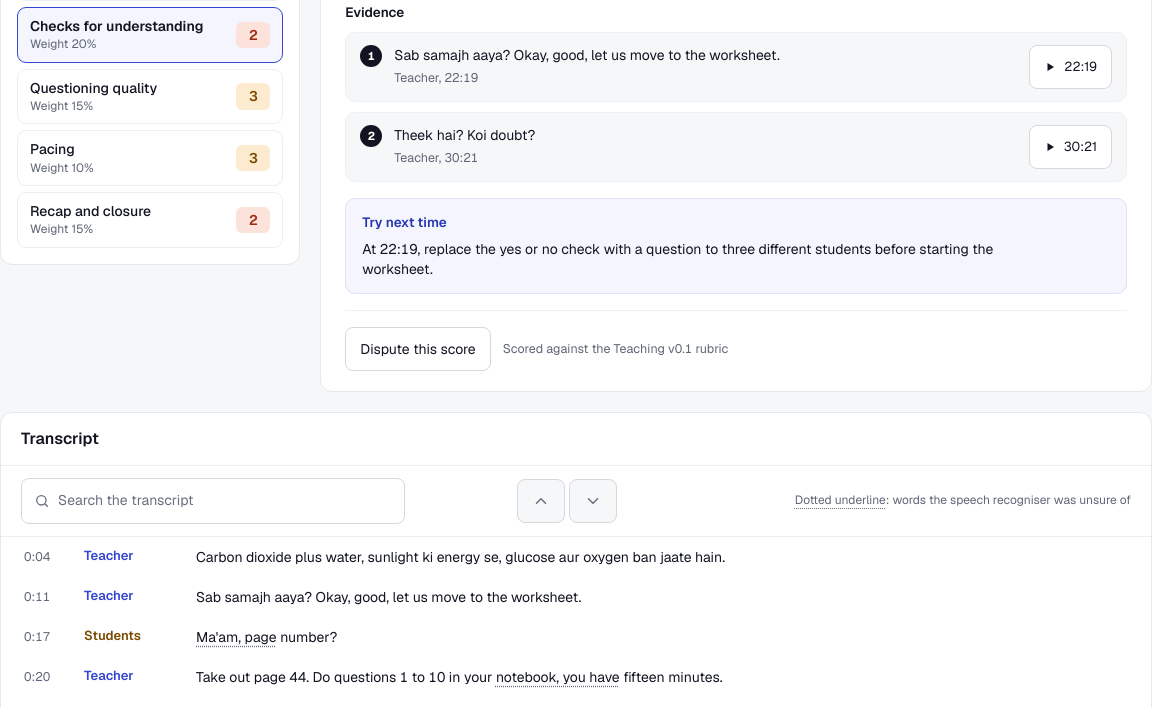
Test: RecordingReport disputes and reviewed scores (P6.7) › opens the dispute dialog for the person analysed
(page scrolled)
Click the button "Dispute this score" at (418, 349), box [345, 327, 491, 371]
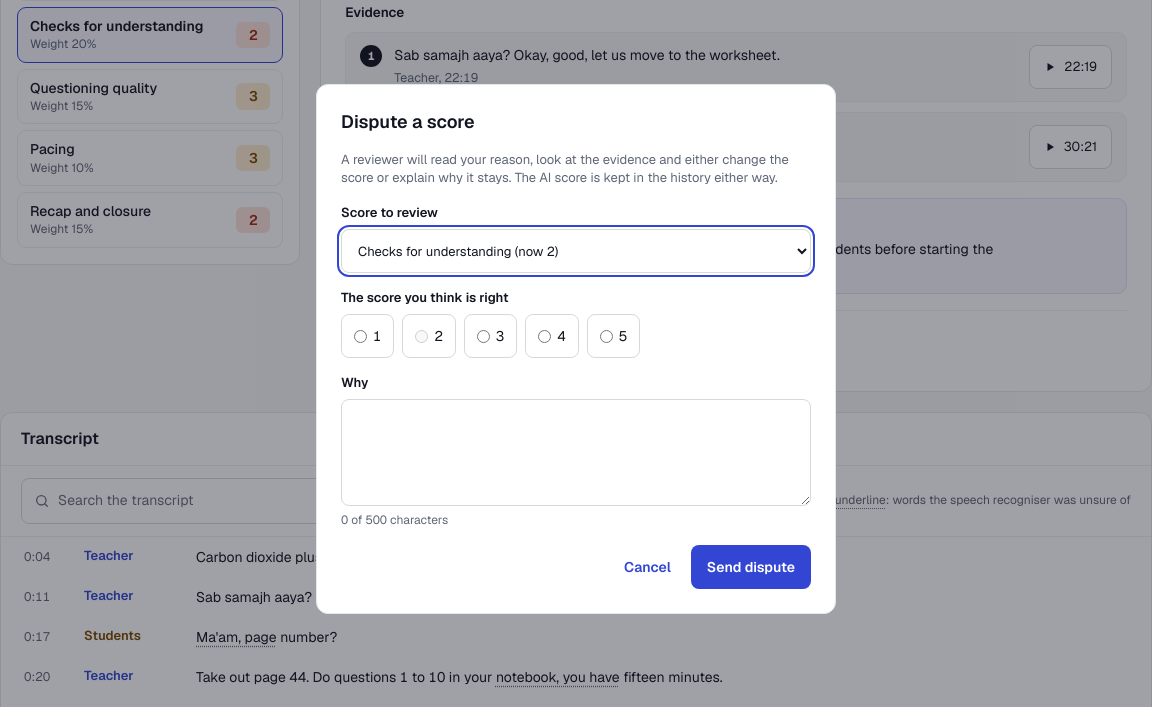
Expected: the dialog "Dispute a score" is shown, [316, 84, 836, 614]
